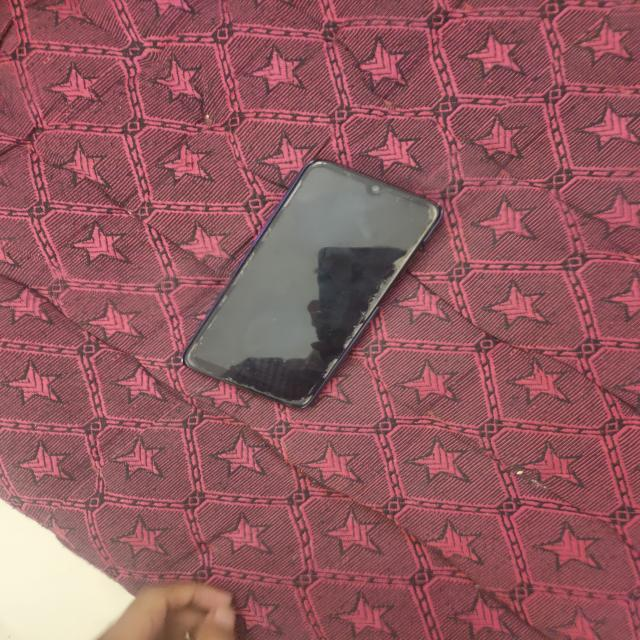Phone: (174, 155, 446, 414)
